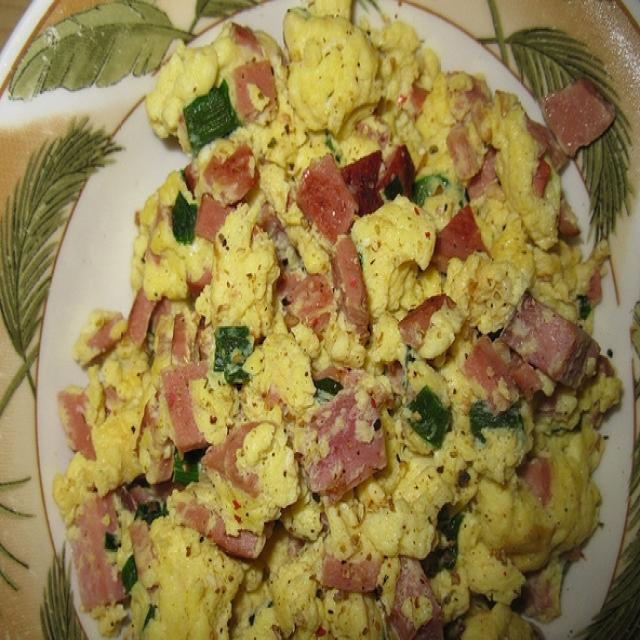鸡蛋料理: (53, 36, 622, 613)
